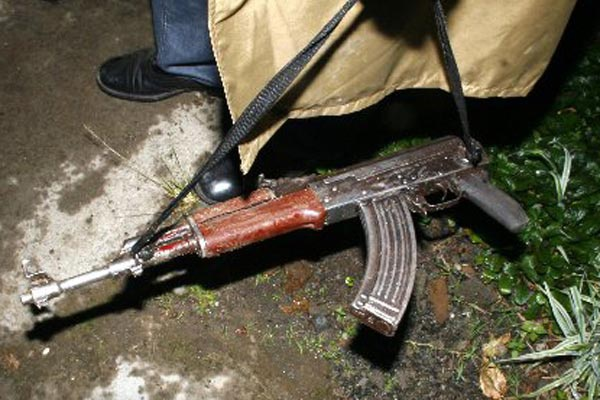ak47: (21, 134, 530, 332)
